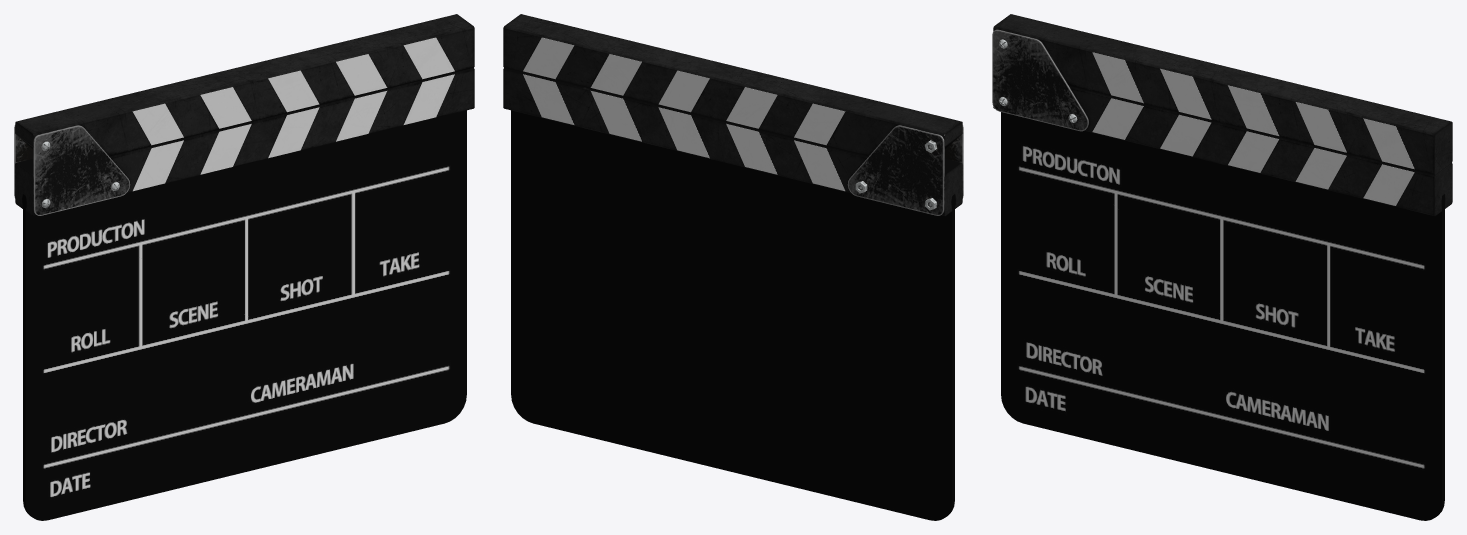
File: clapperboard.glb
3 renders of one model, left to right at view 1: azimuth 30°, elevation 25°; view 2: azimuth 150°, elevation 25°; view 3: azimuth 330°, elevation 25°, orthographic.
Visible parts, largest first — view 1: pCube1, clapperboard_low (×5); view 2: pCube1, clapperboard_low (×5); view 3: pCube1, clapperboard_low (×5).
Boxes of the visible parts, x1=… form: pCube1: x1=23, y1=110, x2=466, y2=520; clapperboard_low (×5): x1=15, y1=14, x2=474, y2=215; pCube1: x1=511, y1=110, x2=954, y2=520; clapperboard_low (×5): x1=503, y1=14, x2=962, y2=215; pCube1: x1=1001, y1=112, x2=1444, y2=520; clapperboard_low (×5): x1=992, y1=14, x2=1452, y2=215.
Bounding box in the file's own units: 28 × 24.08 × 2.66.
1 material, 1 textured.
